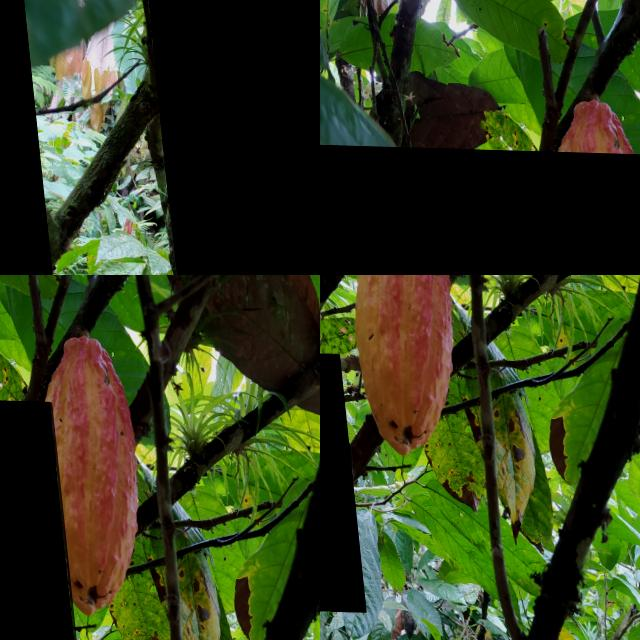Fitoftora: (132, 0, 320, 275), (320, 142, 640, 275), (0, 396, 83, 640), (320, 349, 354, 610)
Sana: (332, 275, 459, 454)
